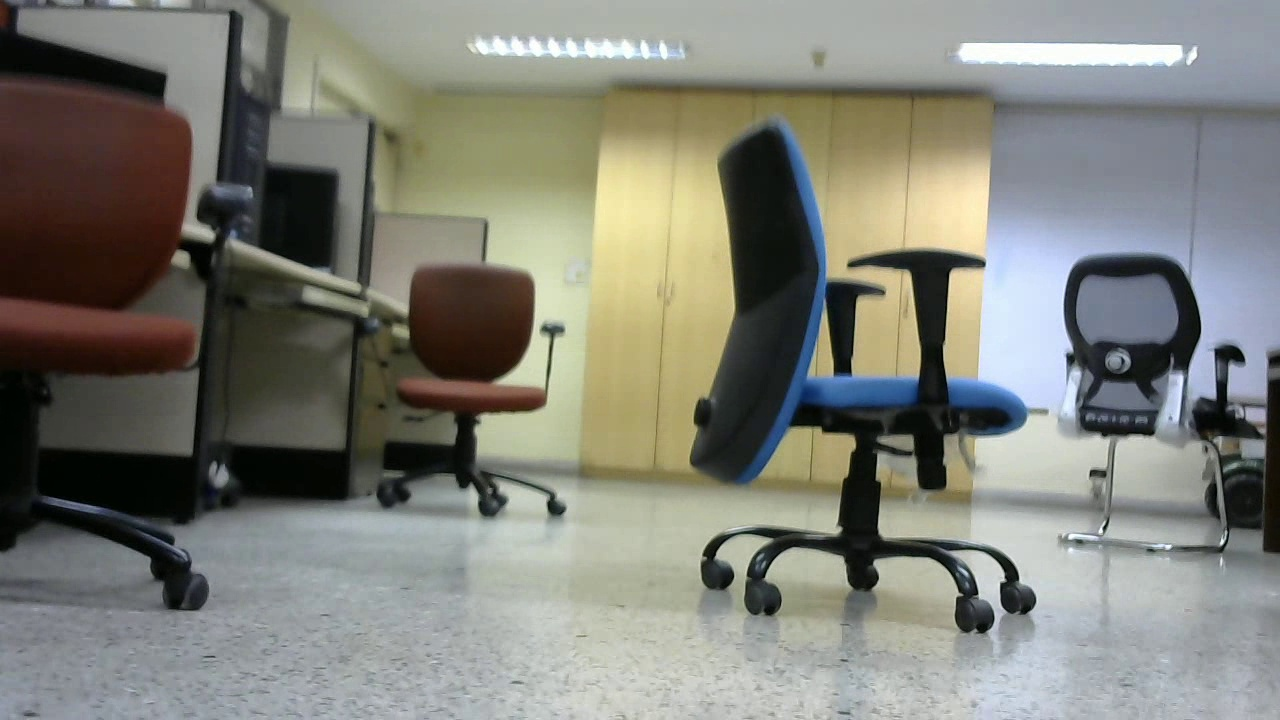chair: (694, 113, 1038, 634), (1, 77, 216, 612), (1051, 246, 1253, 558), (368, 246, 577, 523)
